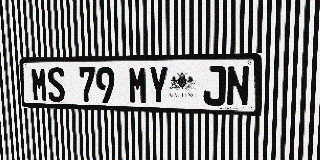7: (77, 67, 96, 103)
9: (96, 67, 115, 103)
J: (203, 66, 226, 106)
M: (128, 66, 148, 104), (30, 67, 48, 102)
N: (226, 65, 250, 107)
S: (47, 67, 65, 102)
Y: (148, 66, 169, 105)
